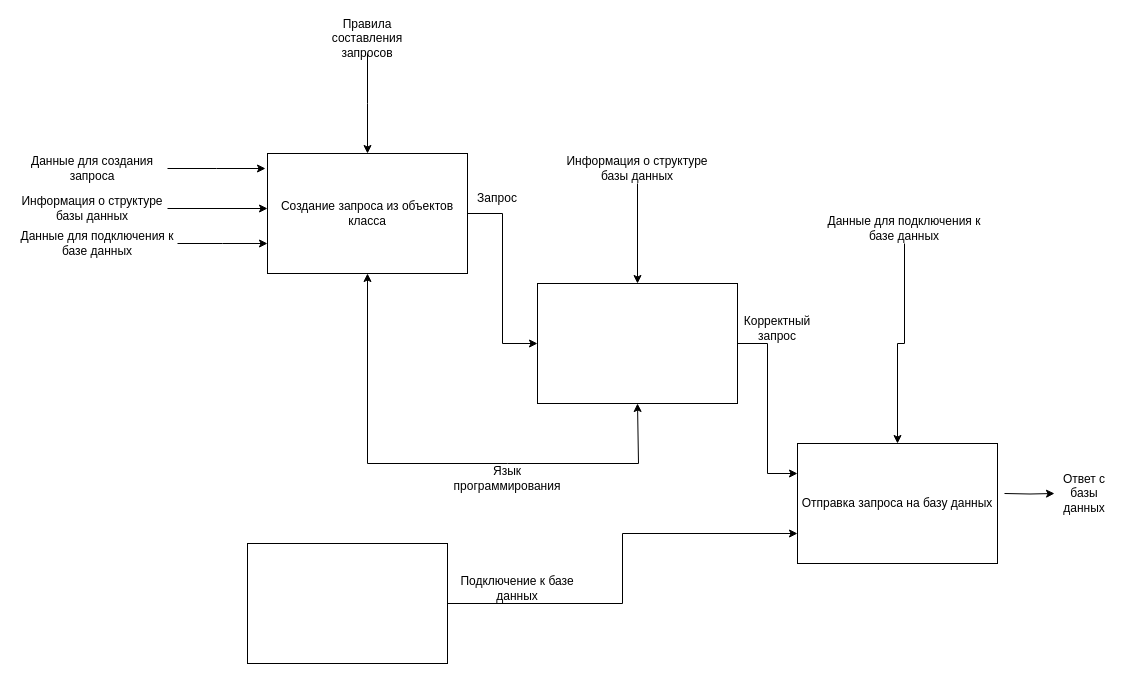
Some shapes in this 1131 by 681 pixel diagram are drawn without their labels. The shapes that lost their labels are listed below. From the top down, each one's centre as x and y in pixels, then its label:
the point at 637,343: Валидация по структуре БД
the point at 347,603: Валидация подключения к базе
